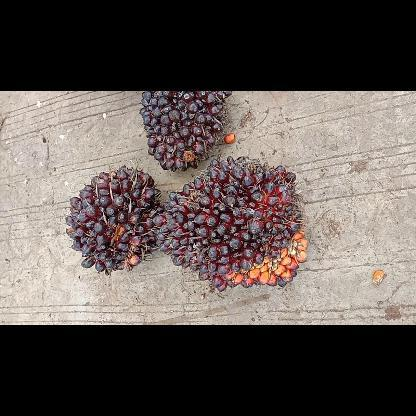TBS mentah: (152, 155, 312, 292), (63, 162, 165, 276), (136, 90, 234, 174)
